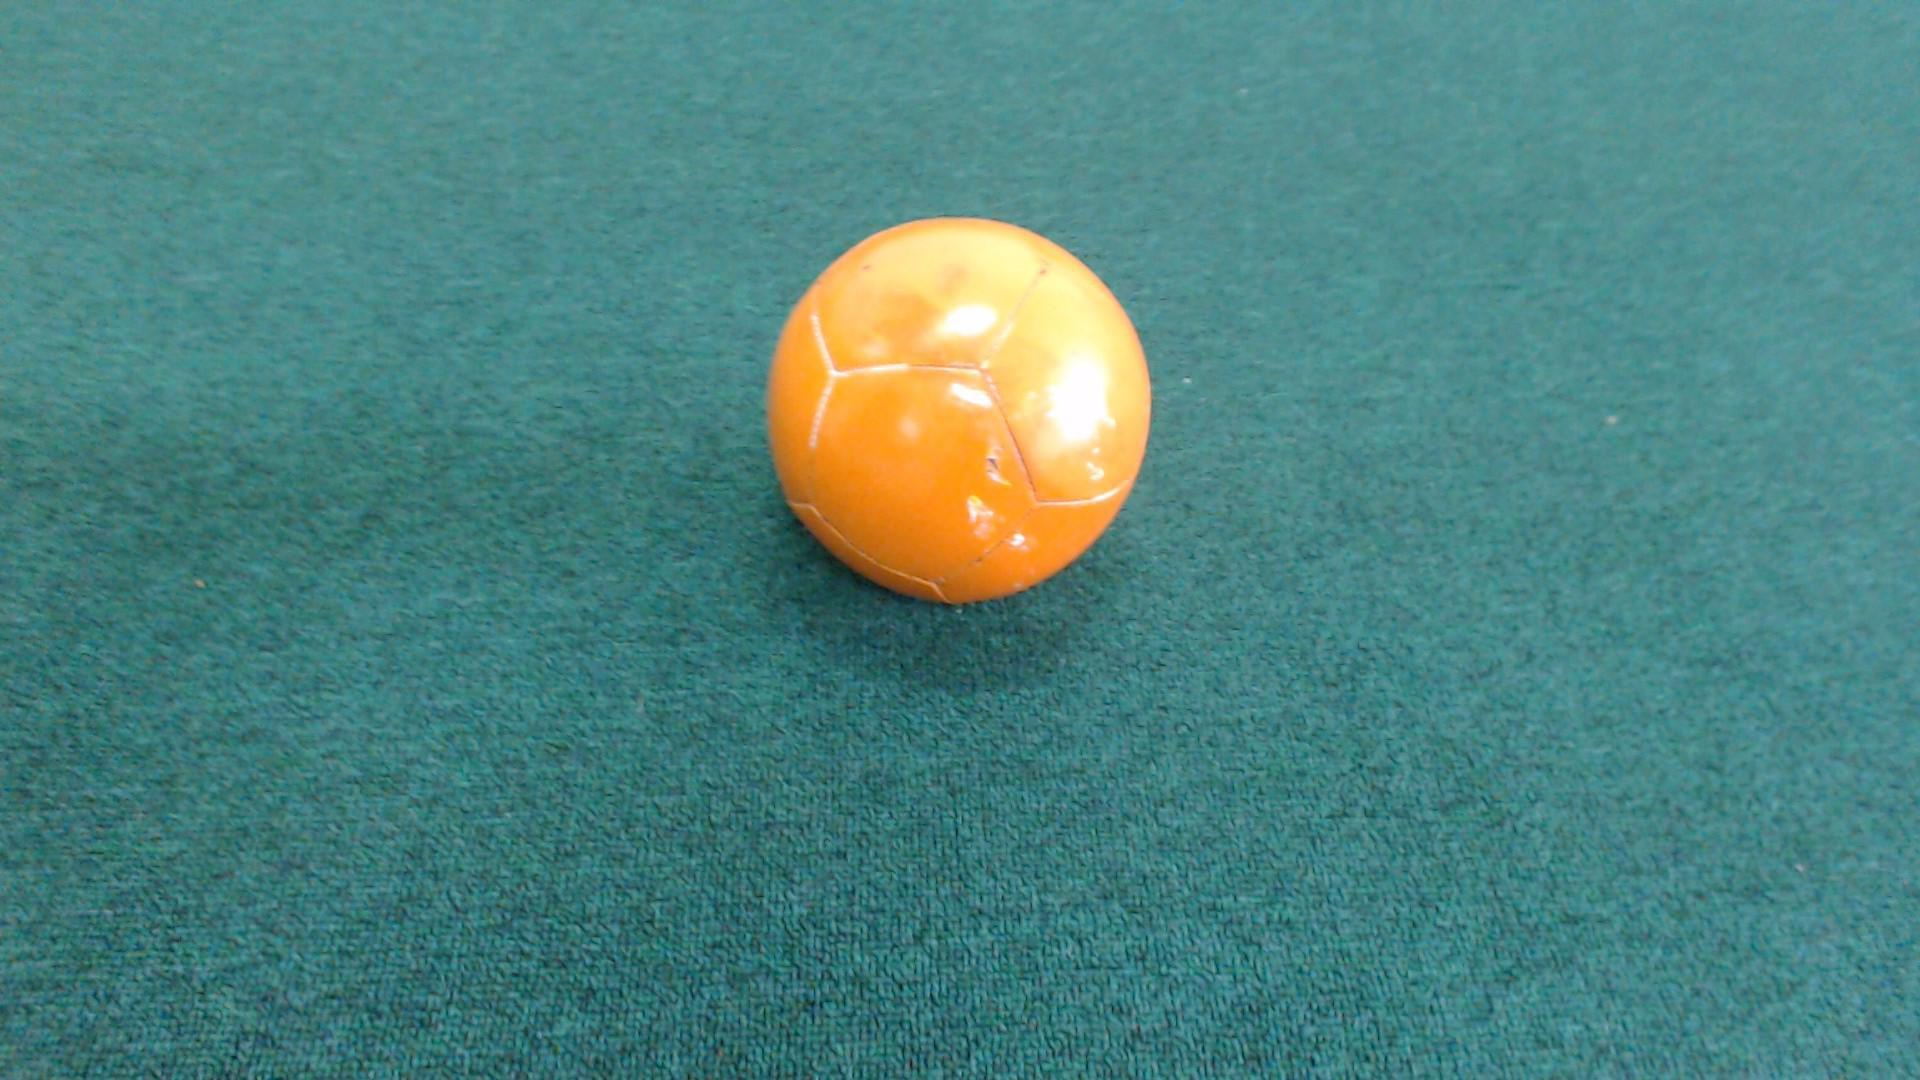bola: (731, 193, 1163, 655)
